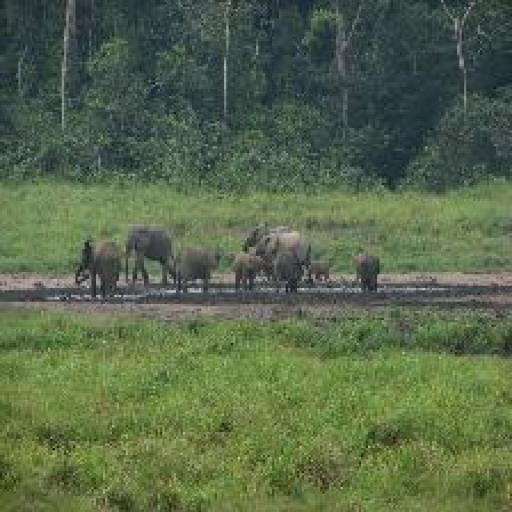Elephant: (254, 231, 311, 292), (123, 226, 176, 286), (73, 238, 119, 297), (172, 244, 220, 292), (229, 252, 265, 290), (242, 222, 288, 251), (352, 252, 379, 290), (306, 258, 329, 284)
